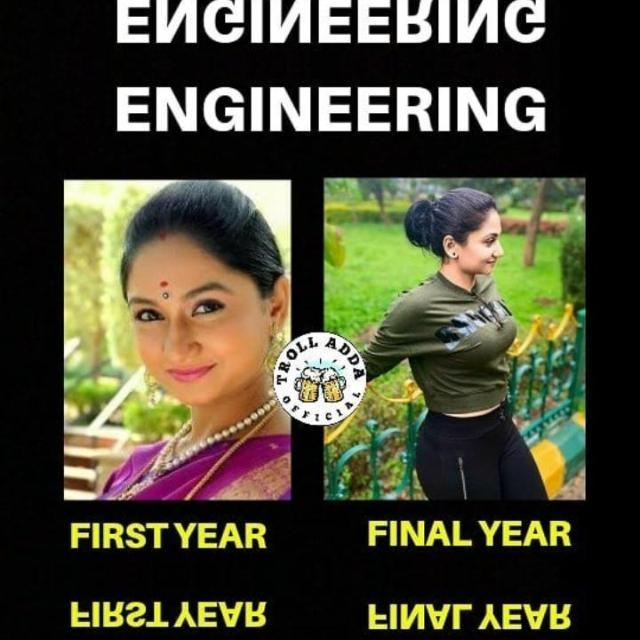person: (366, 182, 554, 494), (101, 190, 273, 490)
